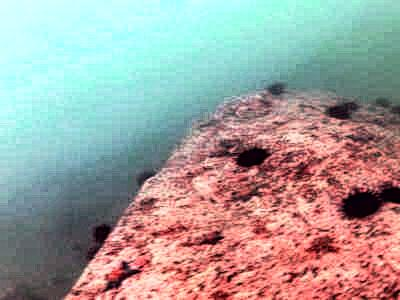urchin: (342, 186, 378, 217), (236, 146, 272, 164), (327, 103, 352, 120), (380, 185, 396, 203)
